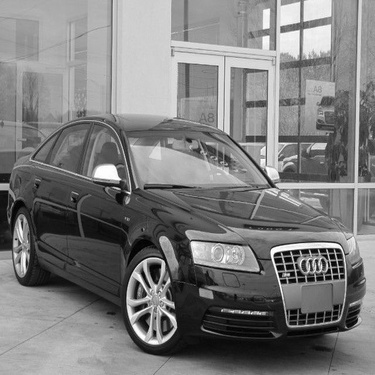car: (8, 110, 370, 354)
